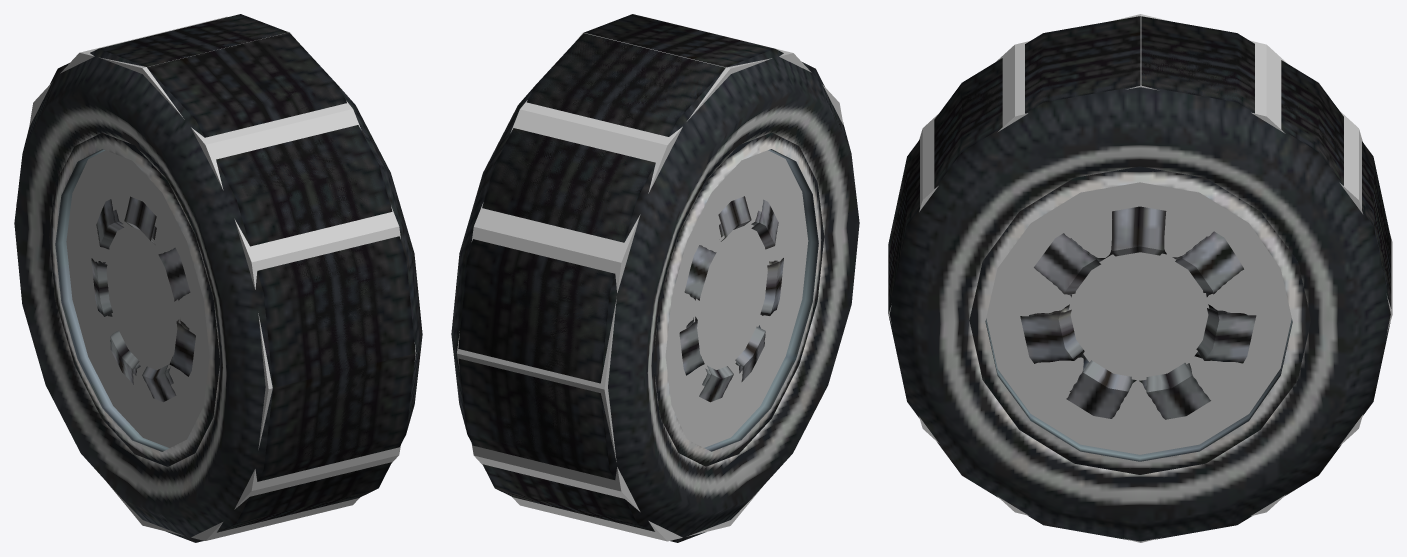
Rendered from tire_5_out.fbx.
The picture shows the model from 3 angles, left to right: view 1: azimuth 30°, elevation 25°; view 2: azimuth 150°, elevation 25°; view 3: azimuth 270°, elevation 25°; orthographic projection.
Parts seen in each view (by area): view 1: Surface4, Surface8, tire_fl_shadow, Surface5, Surface9; view 2: Surface4, Surface8, tire_fl_shadow, Surface5, Surface9; view 3: Surface8, tire_fl_shadow, Surface4, Surface9, Surface5.
Part boxes in pixels (box(x1,y1,x2,y2)): Surface4: box(14, 20, 394, 542); Surface8: box(49, 14, 422, 542); tire_fl_shadow: box(16, 16, 416, 540); Surface5: box(91, 196, 195, 402); Surface9: box(55, 149, 169, 451); Surface4: box(459, 14, 859, 542); Surface8: box(451, 14, 824, 542); tire_fl_shadow: box(457, 17, 843, 541); Surface5: box(679, 196, 783, 402); Surface9: box(704, 149, 818, 451); Surface8: box(888, 16, 1391, 541); tire_fl_shadow: box(888, 14, 1392, 542); Surface4: box(888, 16, 1391, 474); Surface9: box(1020, 206, 1256, 419); Surface5: box(985, 318, 1292, 461).
Bounding box in the file's own units: 0.3339 × 0.7601 × 0.7602.
